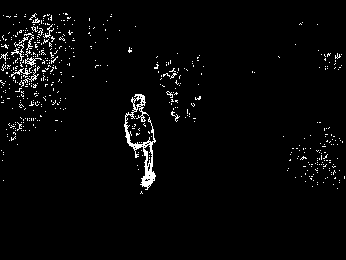person: (124, 92, 159, 193)
